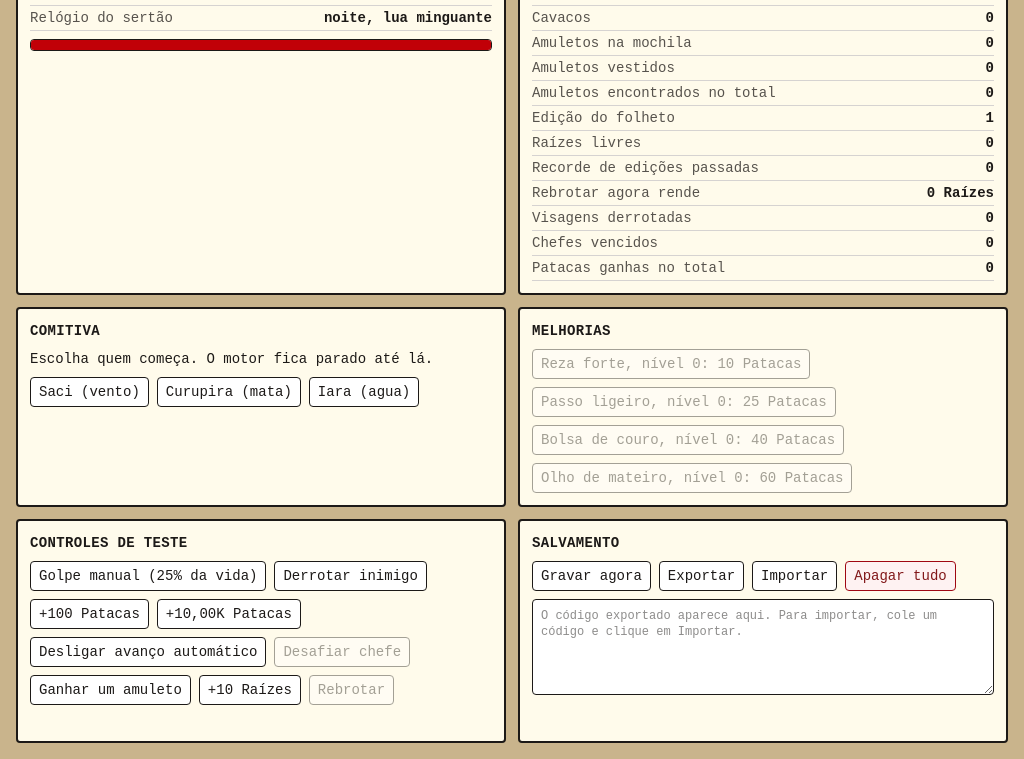
Test: painel de debug › compra melhoria pelo botão e desliga o botão sem Patacas
(page scrolled)
Click the button "Saci (vento)": (89, 392) [30,377,149,407]
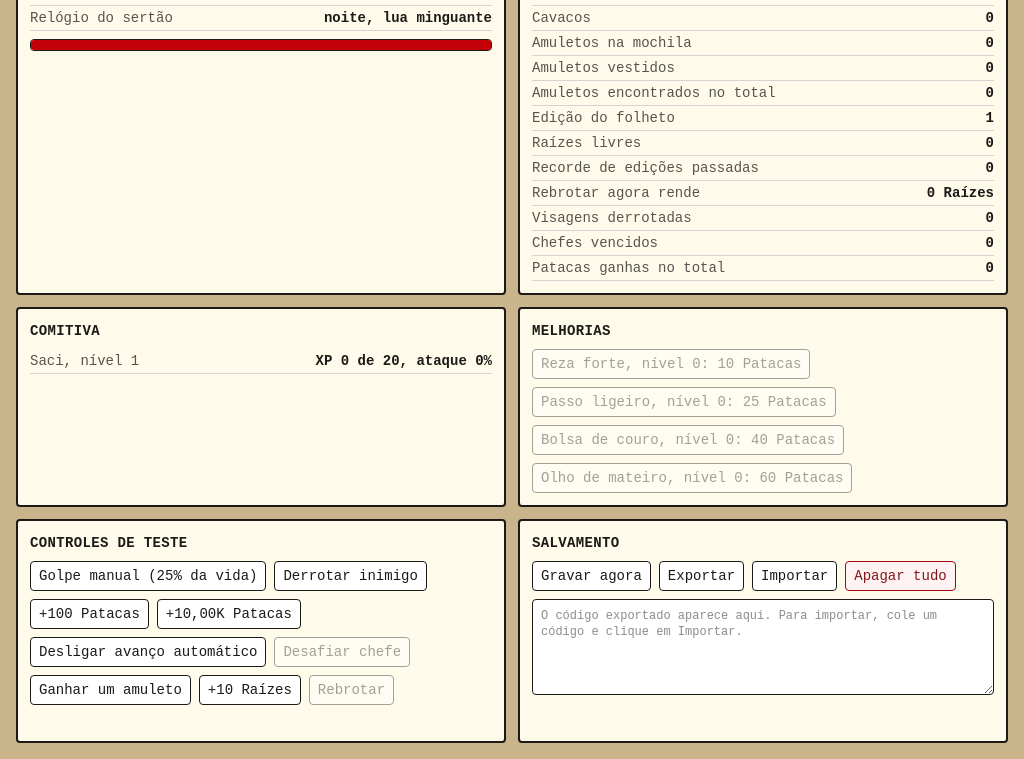
Expected: the button "Reza forte, nível 0: 10 Patacas" is disabled, [532,349,810,379]
Click the button "+100 Patacas": (89, 614) [30,599,149,629]
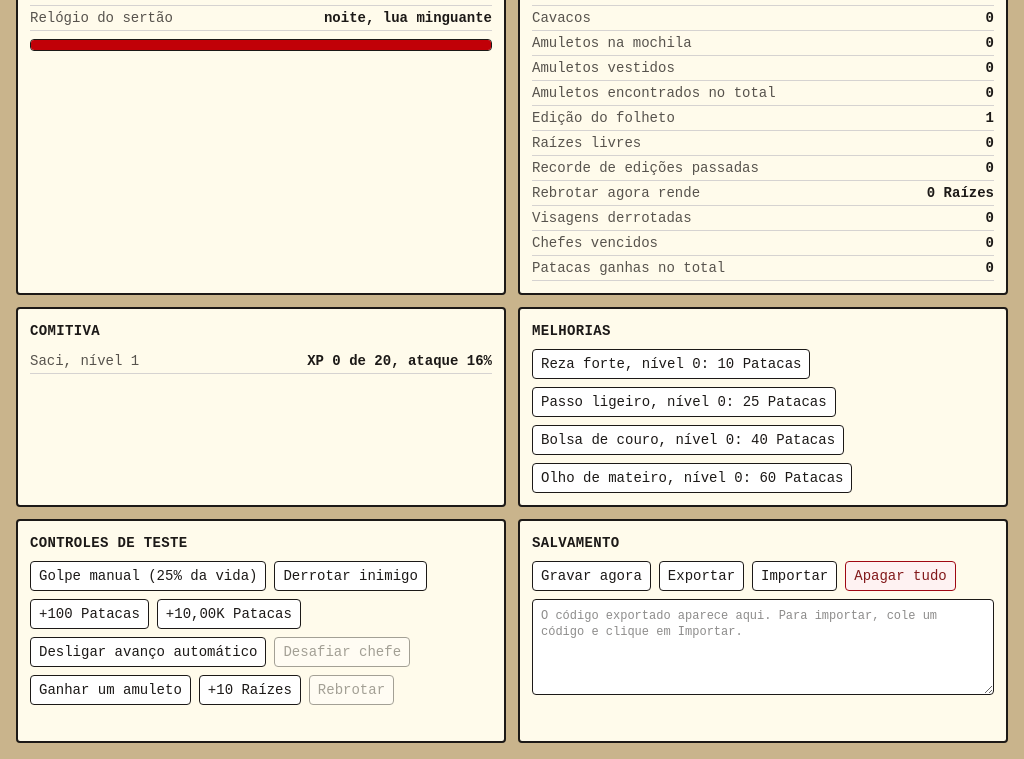
Click the button "Reza forte, nível 0: 10 Patacas": (671, 364) [532,349,810,379]
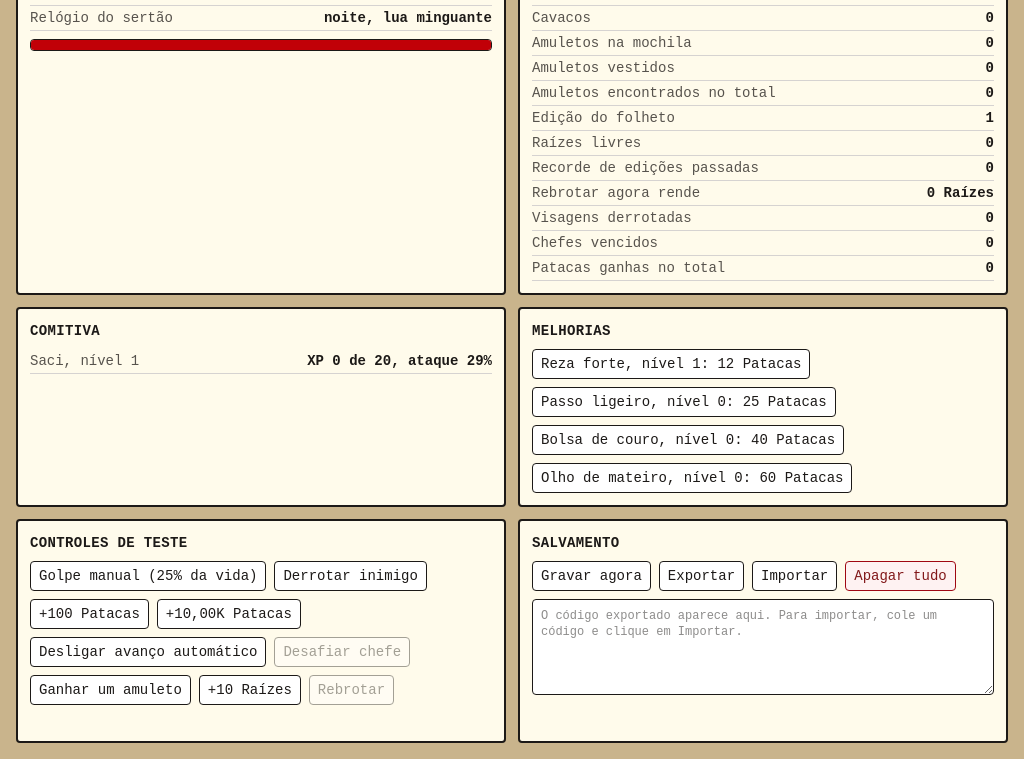
Expected: the text "Reza forte, nível 1: 12 Patacas" is shown, [532,349,810,379]
